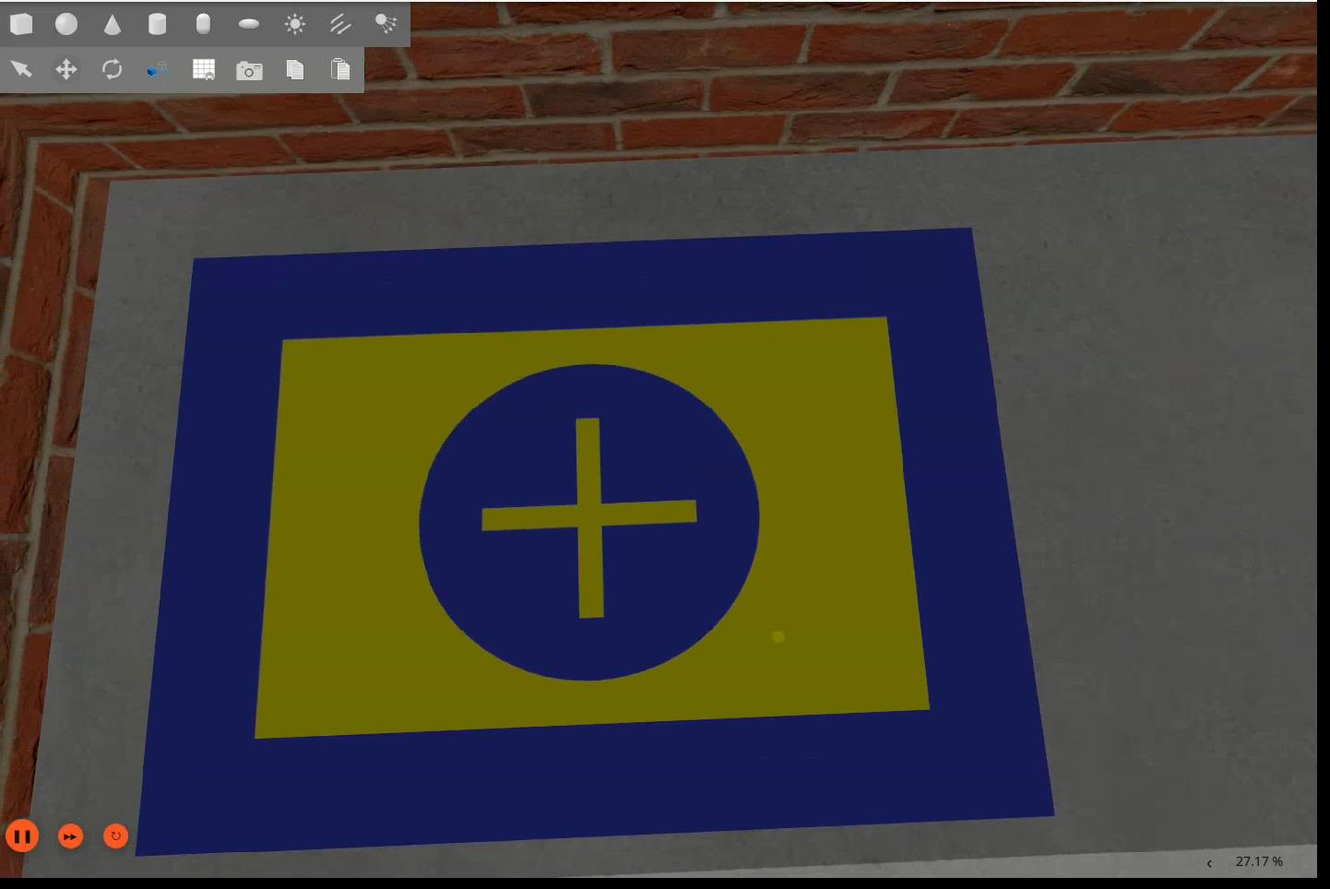large_base: (138, 230, 1060, 857)
